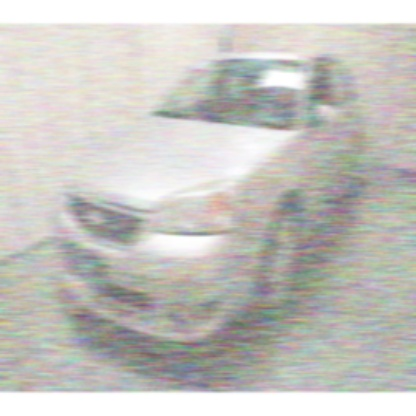Vehicle: (51, 51, 362, 349)
